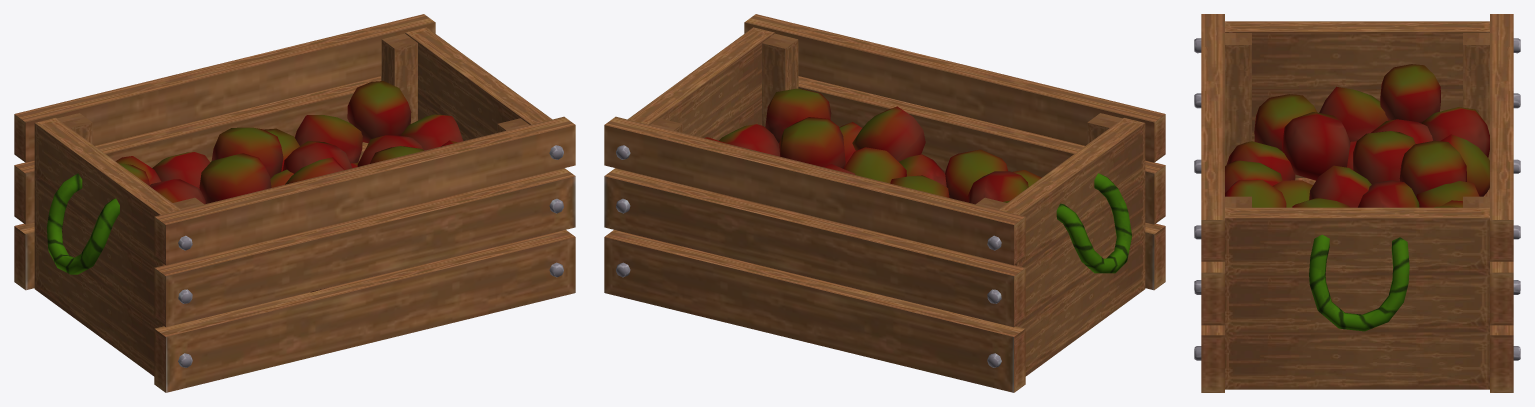
Rendered from FarmCrate Apple.glb.
3 views of the same model, side by side, from view 1: azimuth 30°, elevation 25°; view 2: azimuth 150°, elevation 25°; view 3: azimuth 270°, elevation 25° (orthographic). The views are drawn at different scales.
Visible parts, largest first — view 1: FarmCrate_Apple; view 2: FarmCrate_Apple; view 3: FarmCrate_Apple.
Boxes of the visible parts, <box> form: FarmCrate_Apple: <box>14,14,575,392</box>; FarmCrate_Apple: <box>604,14,1165,392</box>; FarmCrate_Apple: <box>1194,14,1520,392</box>.
Bounding box in the file's own units: 0.7138 × 0.2438 × 0.4142.
Materials: 3 (3 with a texture image).
